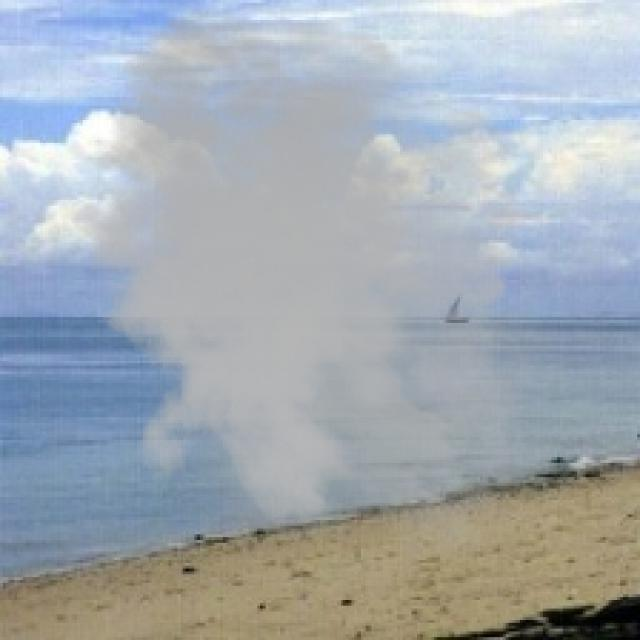smoke: (51, 9, 592, 577)
